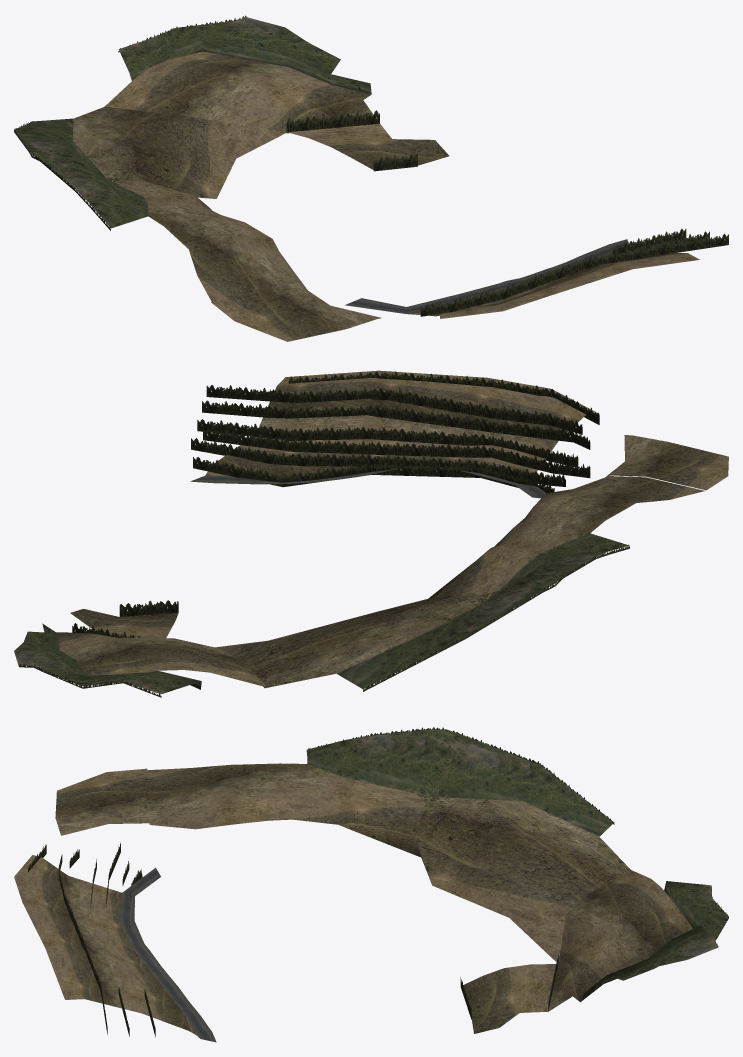
File: ebisuminami10.glb
The picture shows the model from 3 angles, top to bottom: view 1: azimuth 30°, elevation 25°; view 2: azimuth 150°, elevation 25°; view 3: azimuth 270°, elevation 25°; orthographic projection. The views are drawn at different scales.
Parts seen in each view (by area): view 1: Object021; view 2: Object021; view 3: Object021.
Part boxes in pixels (x1,y1,x2,y2): Object021: (14,15,728,341); Object021: (14,370,728,697); Object021: (14,727,728,1042).
Size of the model in its own units: 450 by 103 by 587.
Materials: 4 (4 with a texture image).
